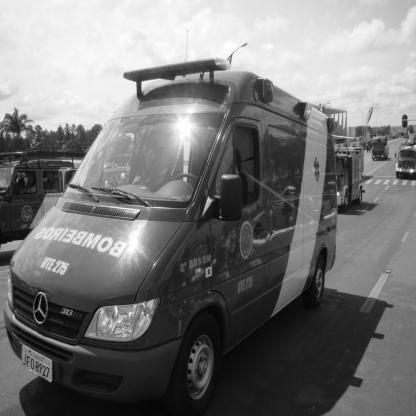ambulance: (13, 48, 365, 416)
